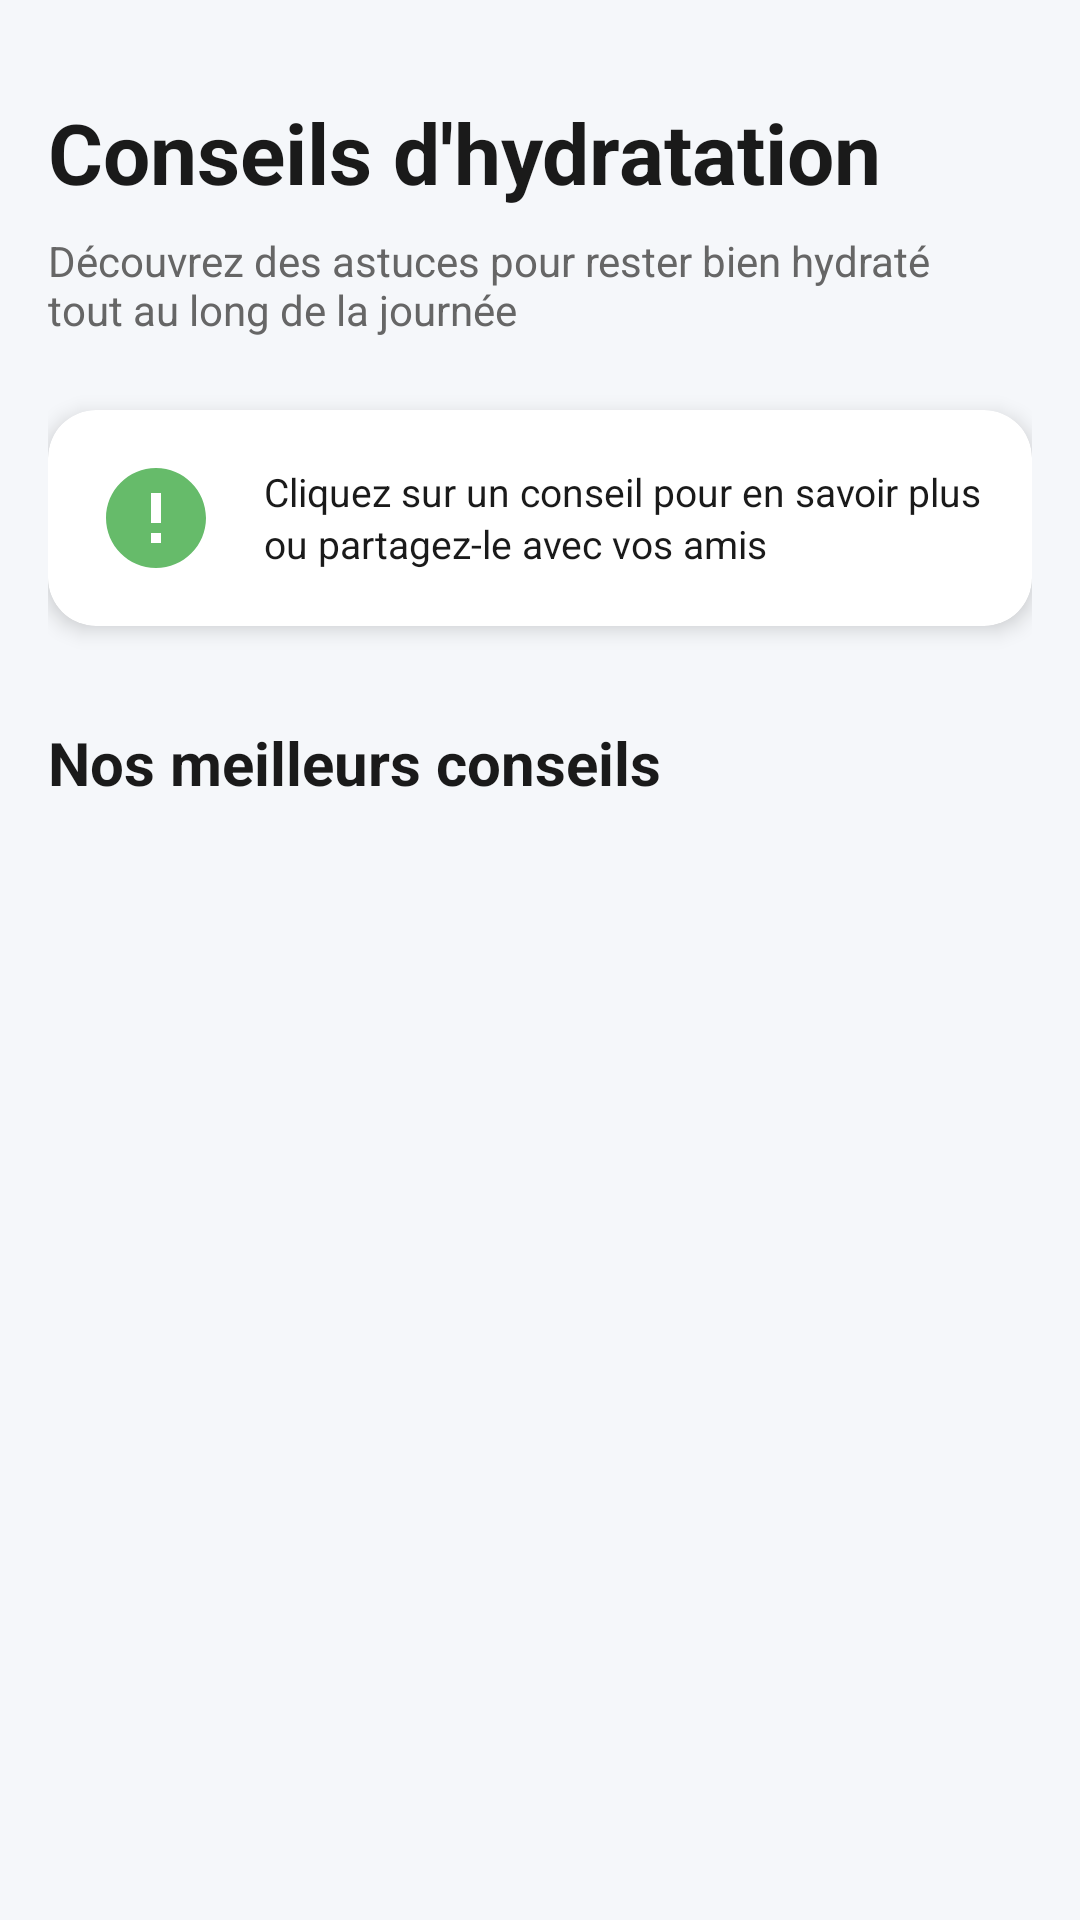

Screen size 1080px x 1920px. Icon name, then its center in pixels as (x,y):
Tips icon: (156,518)
